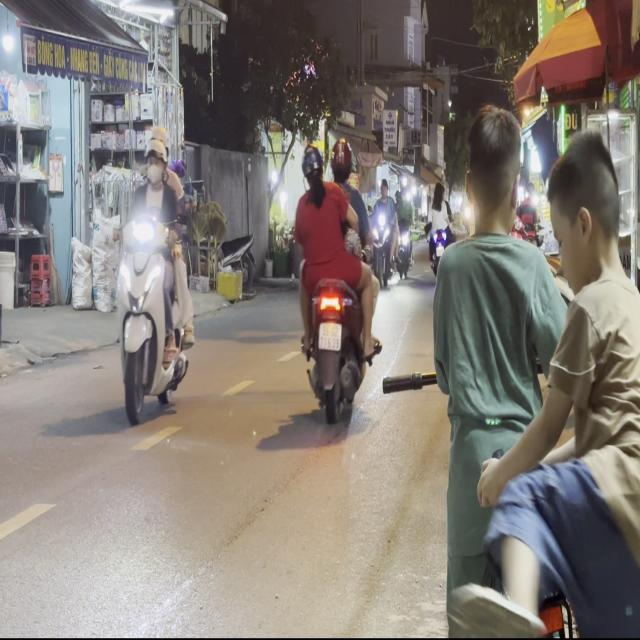helmet: (144, 139, 167, 193), (329, 136, 352, 182), (301, 144, 324, 188), (146, 124, 168, 153)
licenseplate: (290, 136, 381, 425), (111, 123, 196, 425)
nohelmet: (318, 322, 341, 349)
